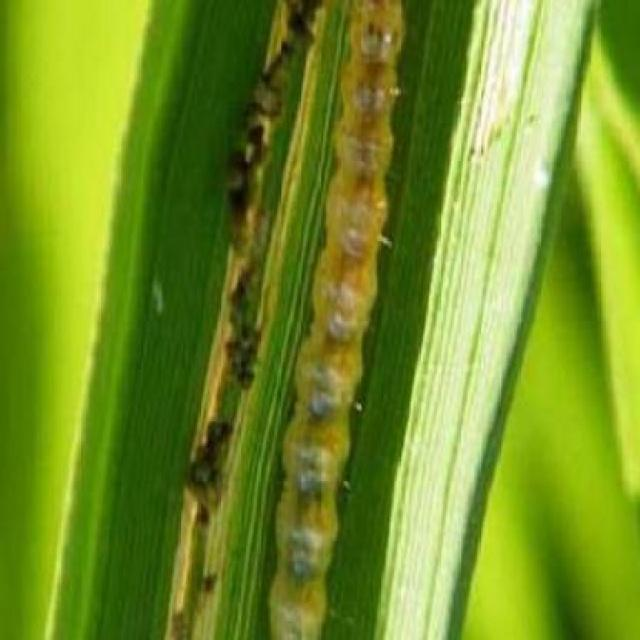leaf-folder: (257, 15, 409, 573)
